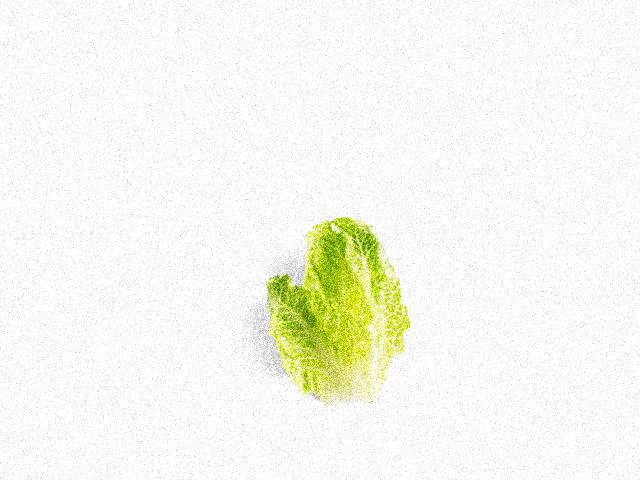lettuce: (270, 214, 411, 371)
